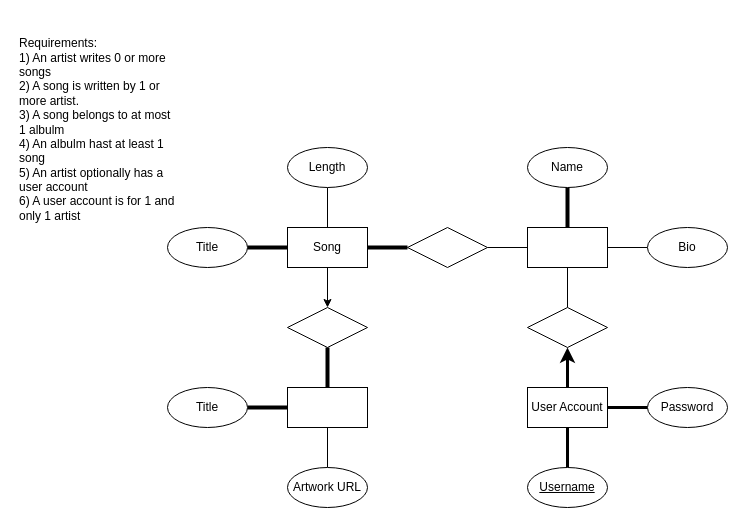
This 745x525 diagram has some shape labels left out. The box of each missing label's shape, as (x1, y1, x2, y2) in pixels:
Album: (286, 386, 368, 428)
Artist: (526, 226, 608, 268)
Belongs to: (286, 306, 368, 348)
Has A: (526, 306, 608, 348)
Written By: (406, 226, 488, 268)
